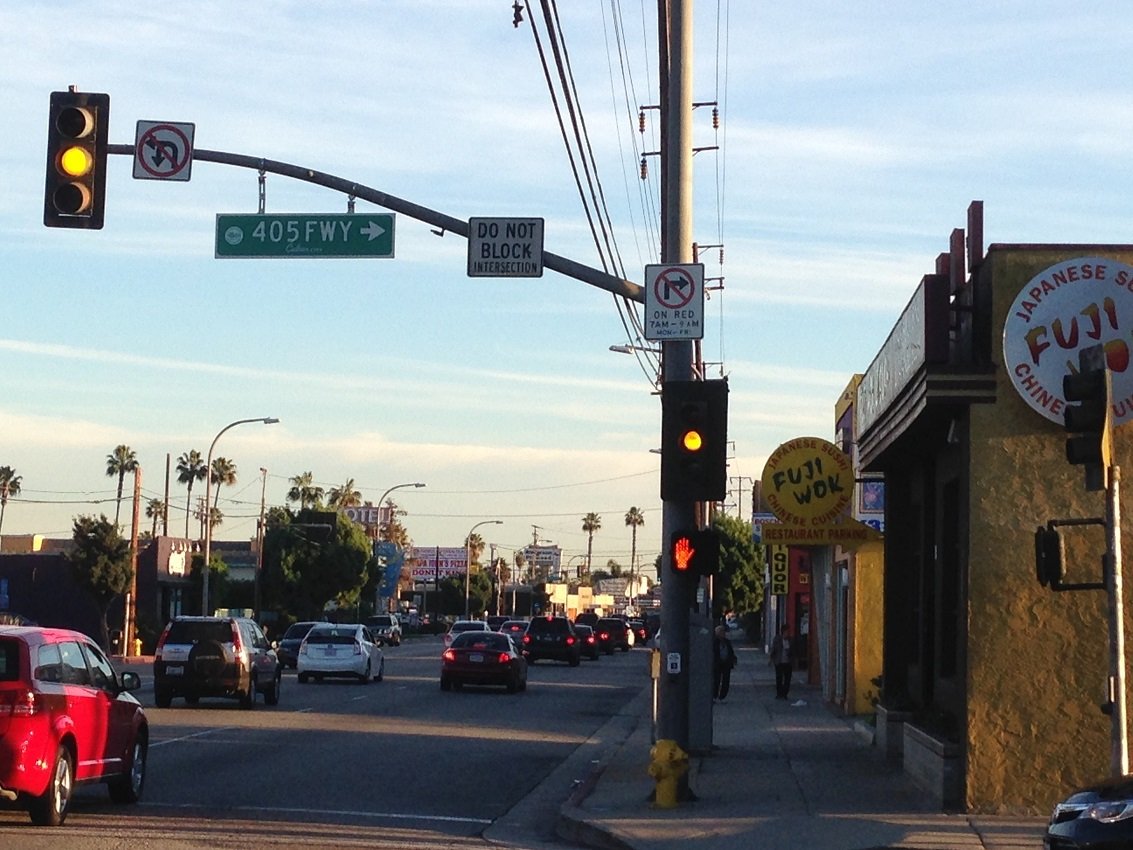traffic_light: (40, 90, 113, 231), (658, 379, 729, 503)
